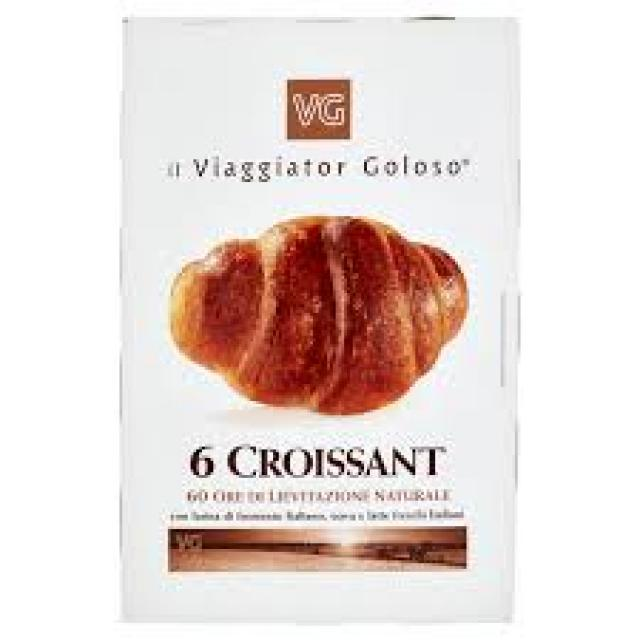bread: (122, 17, 521, 626)
